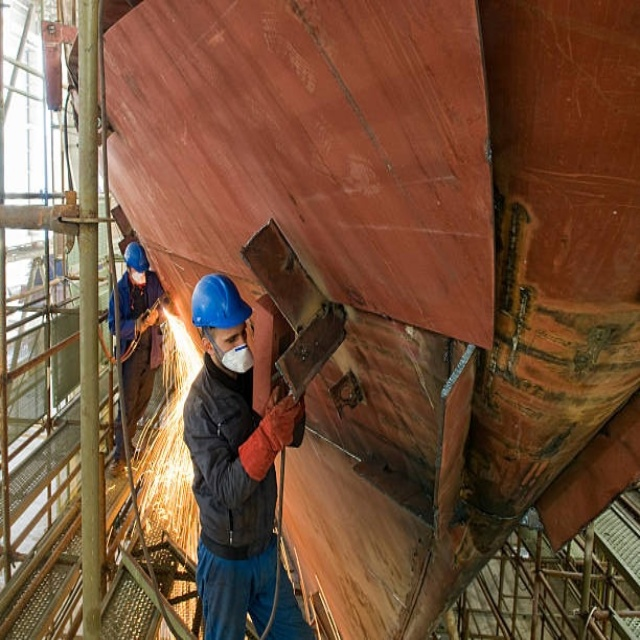Guantes: (236, 391, 302, 485)
Mascara: (217, 338, 253, 374), (130, 269, 146, 285)
Sin_gafas: (209, 322, 250, 349)
